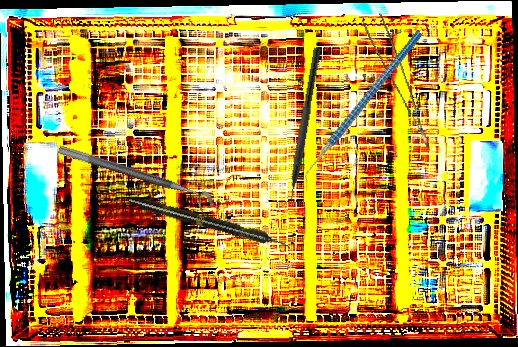Chopper: (264, 29, 461, 192), (276, 44, 322, 214)
Fixation Ring: (53, 144, 217, 217)
Handpiece: (127, 193, 293, 253)
Tissue Forceps: (361, 10, 430, 155)
